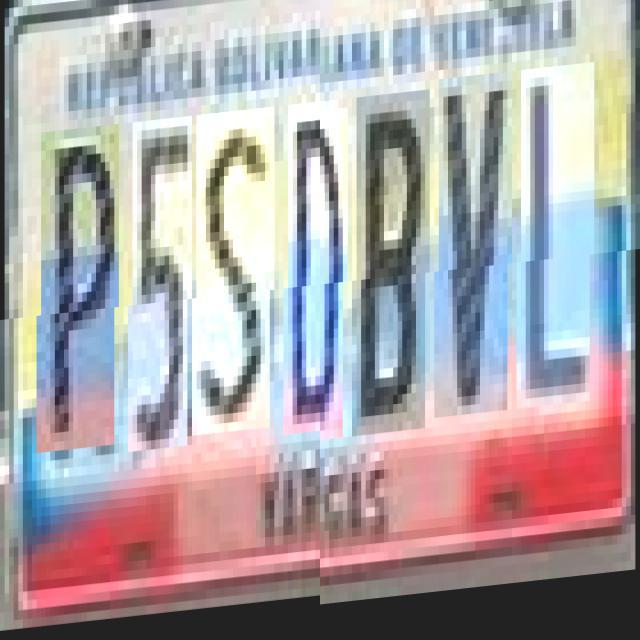5: (132, 130, 192, 464)
B: (356, 100, 429, 444)
D: (288, 116, 348, 450)
L: (521, 76, 594, 420)
P: (41, 136, 119, 463)
S: (197, 122, 274, 450)
V: (439, 83, 512, 428)
